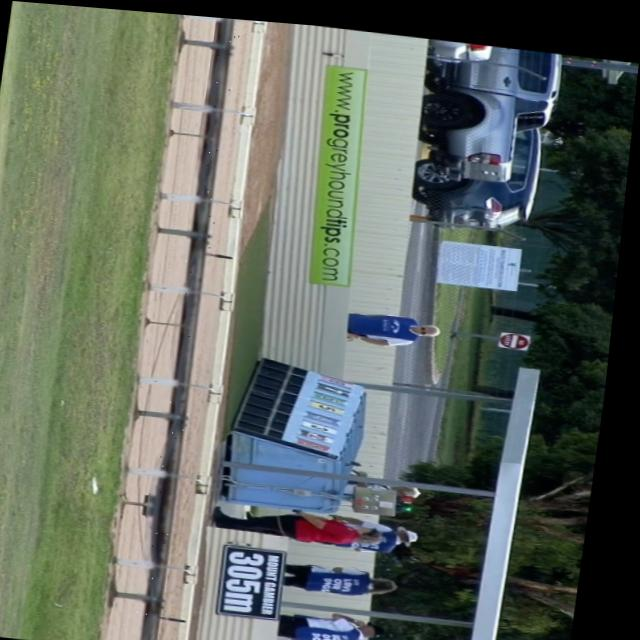rail: (150, 14, 232, 640)
